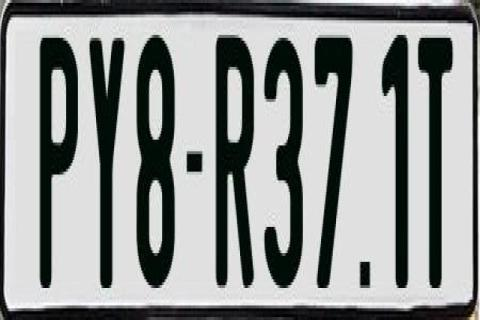0: (136, 35, 182, 288), (314, 29, 354, 294), (262, 32, 300, 282), (381, 27, 413, 280)
P: (38, 32, 78, 296)
R: (214, 32, 255, 296)
T: (416, 35, 456, 285)
Y: (88, 29, 126, 288)
